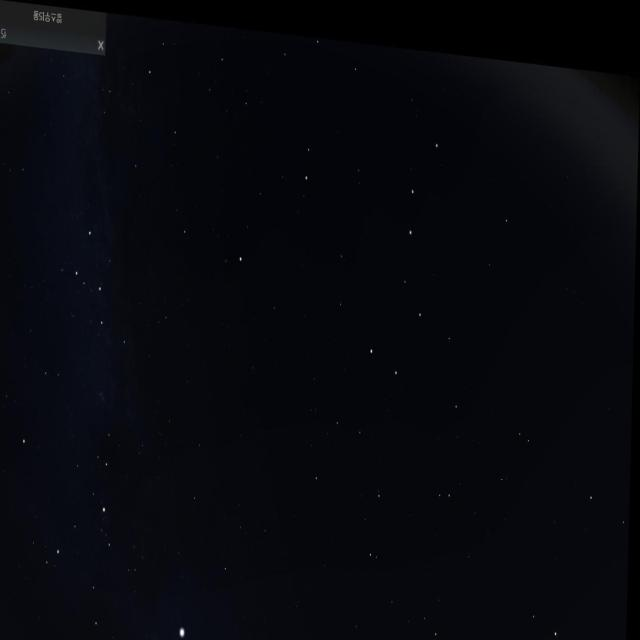cassiopeia: (70, 216, 140, 372)
ursa_major: (362, 111, 448, 384)
